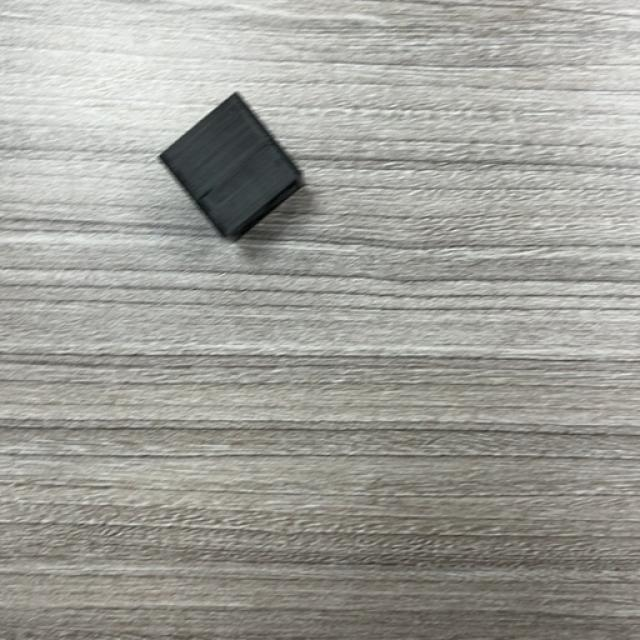Negro: (159, 92, 305, 242)
